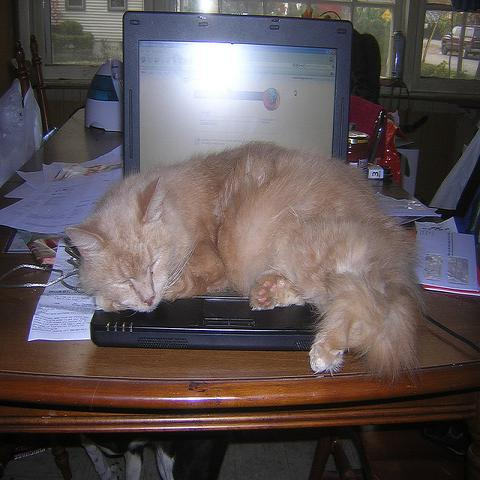car: (442, 25, 479, 59)
